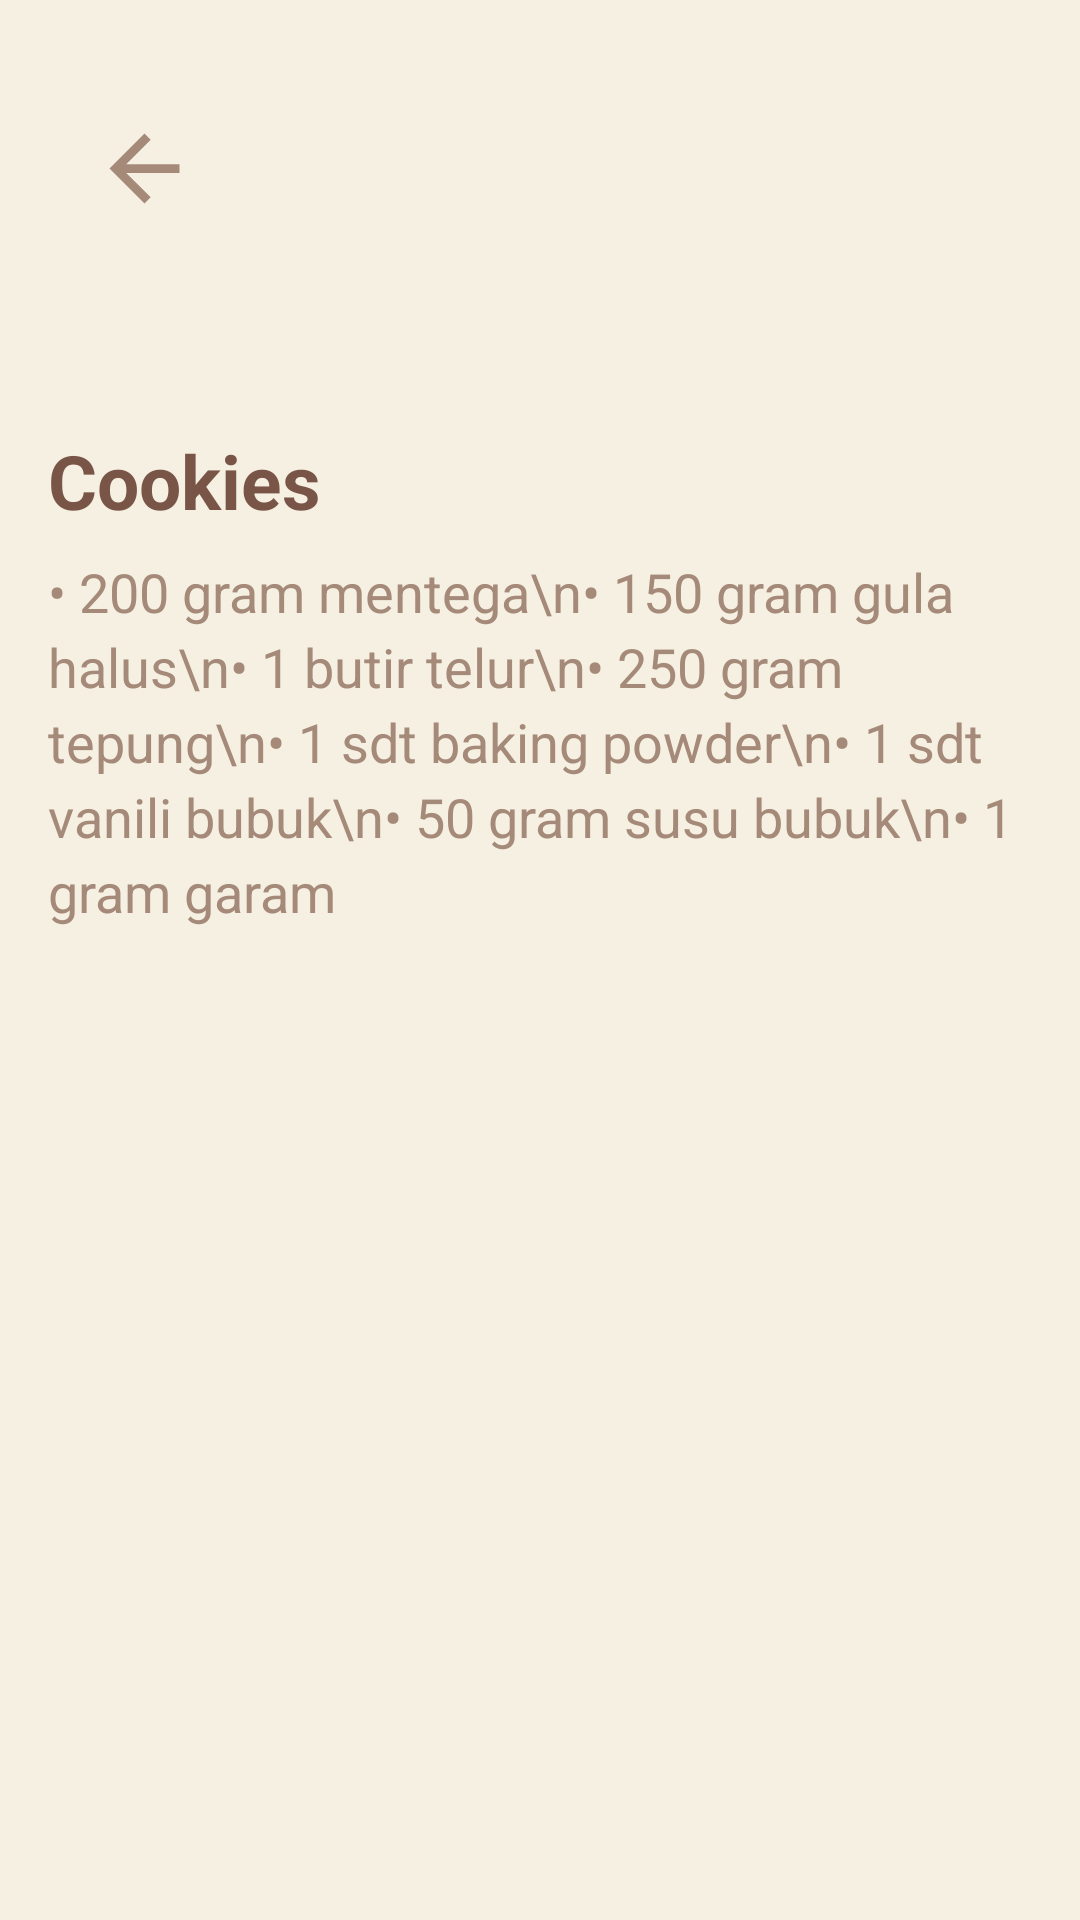

Where icons sit on this 1080 × 1920 app screen, as (x1, y1, x2, y2):
Back Button: (109, 133, 180, 204)
